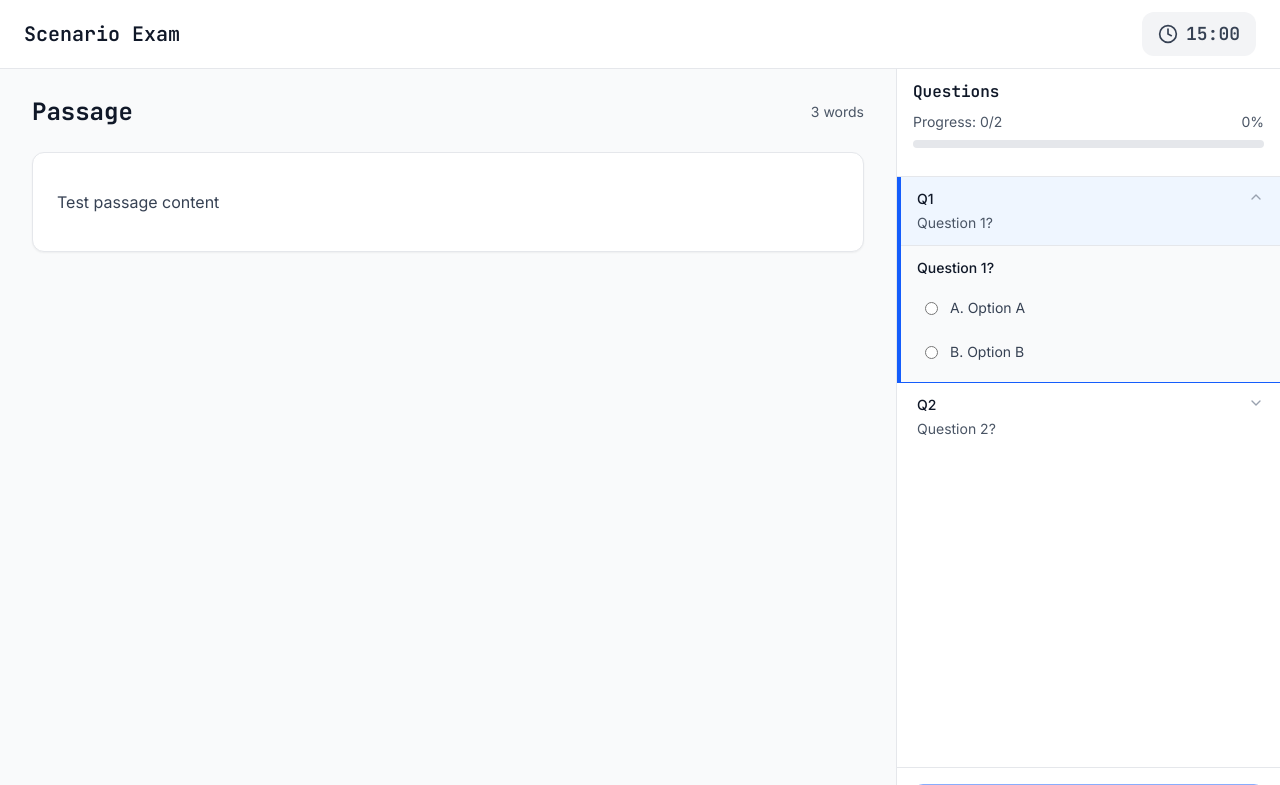
Test: ScenarioExam › Submission › should show loading overlay while submitting
Expected: the text "Test passage content" is shown, [57, 192, 219, 212]
Click the radio button labelled "A. Option A": click(932, 308) [925, 302, 938, 315]
(page scrolled)
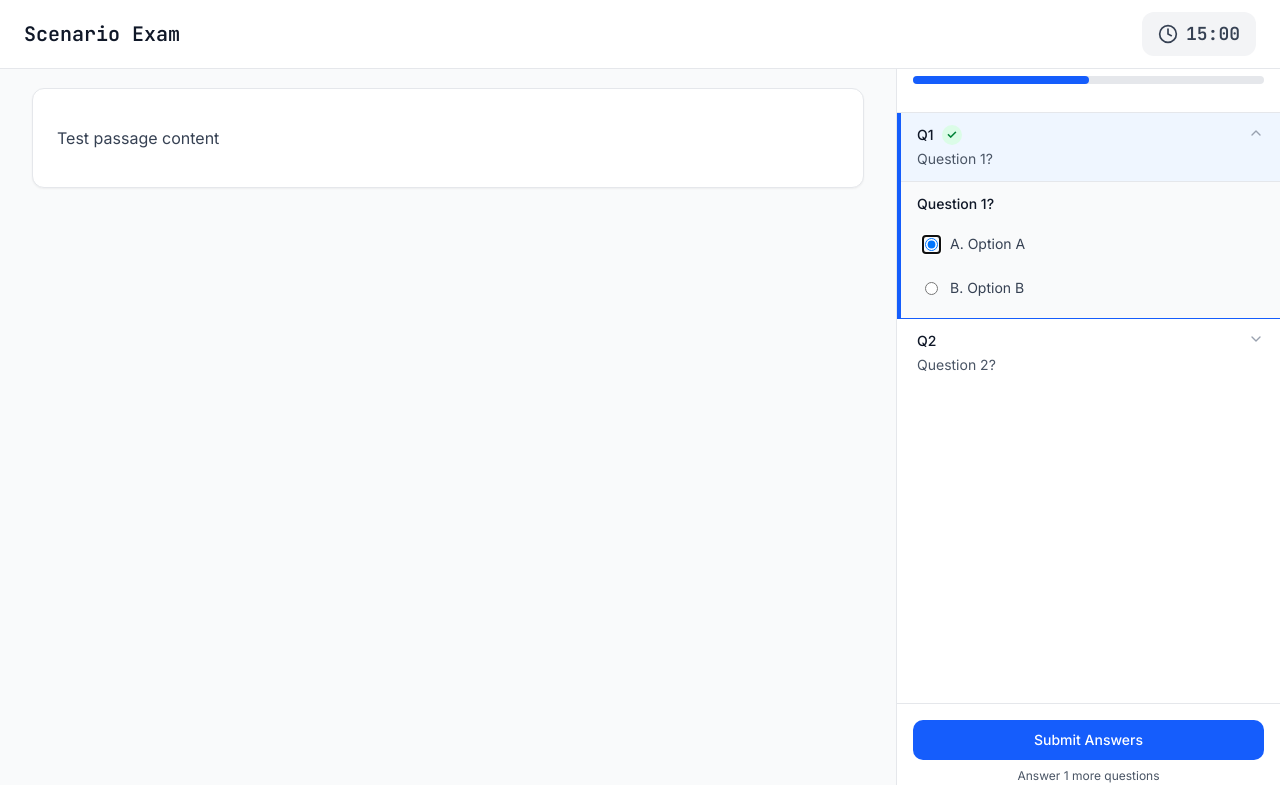
Click the button "Submit Answers": click(1088, 740) [913, 720, 1264, 760]
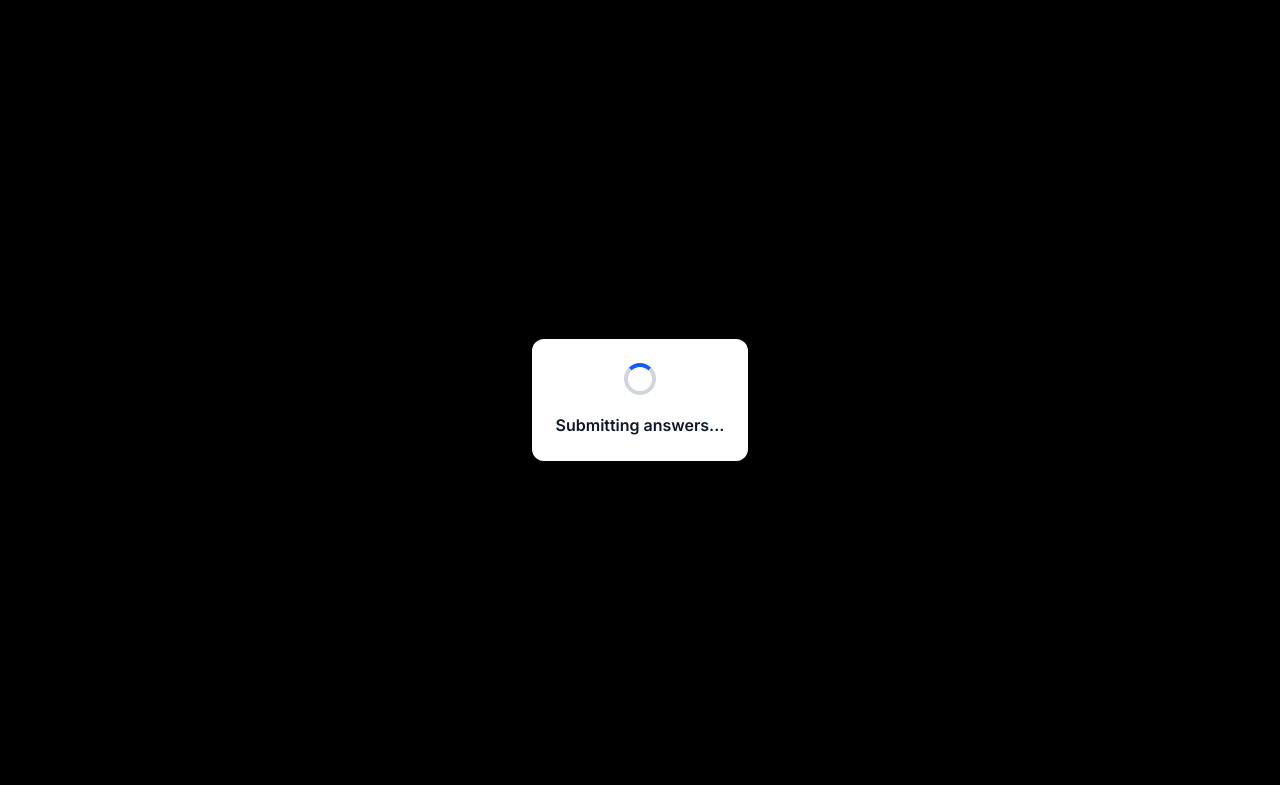
Now the text "Submitting answers..." is shown, box [556, 413, 724, 437]
